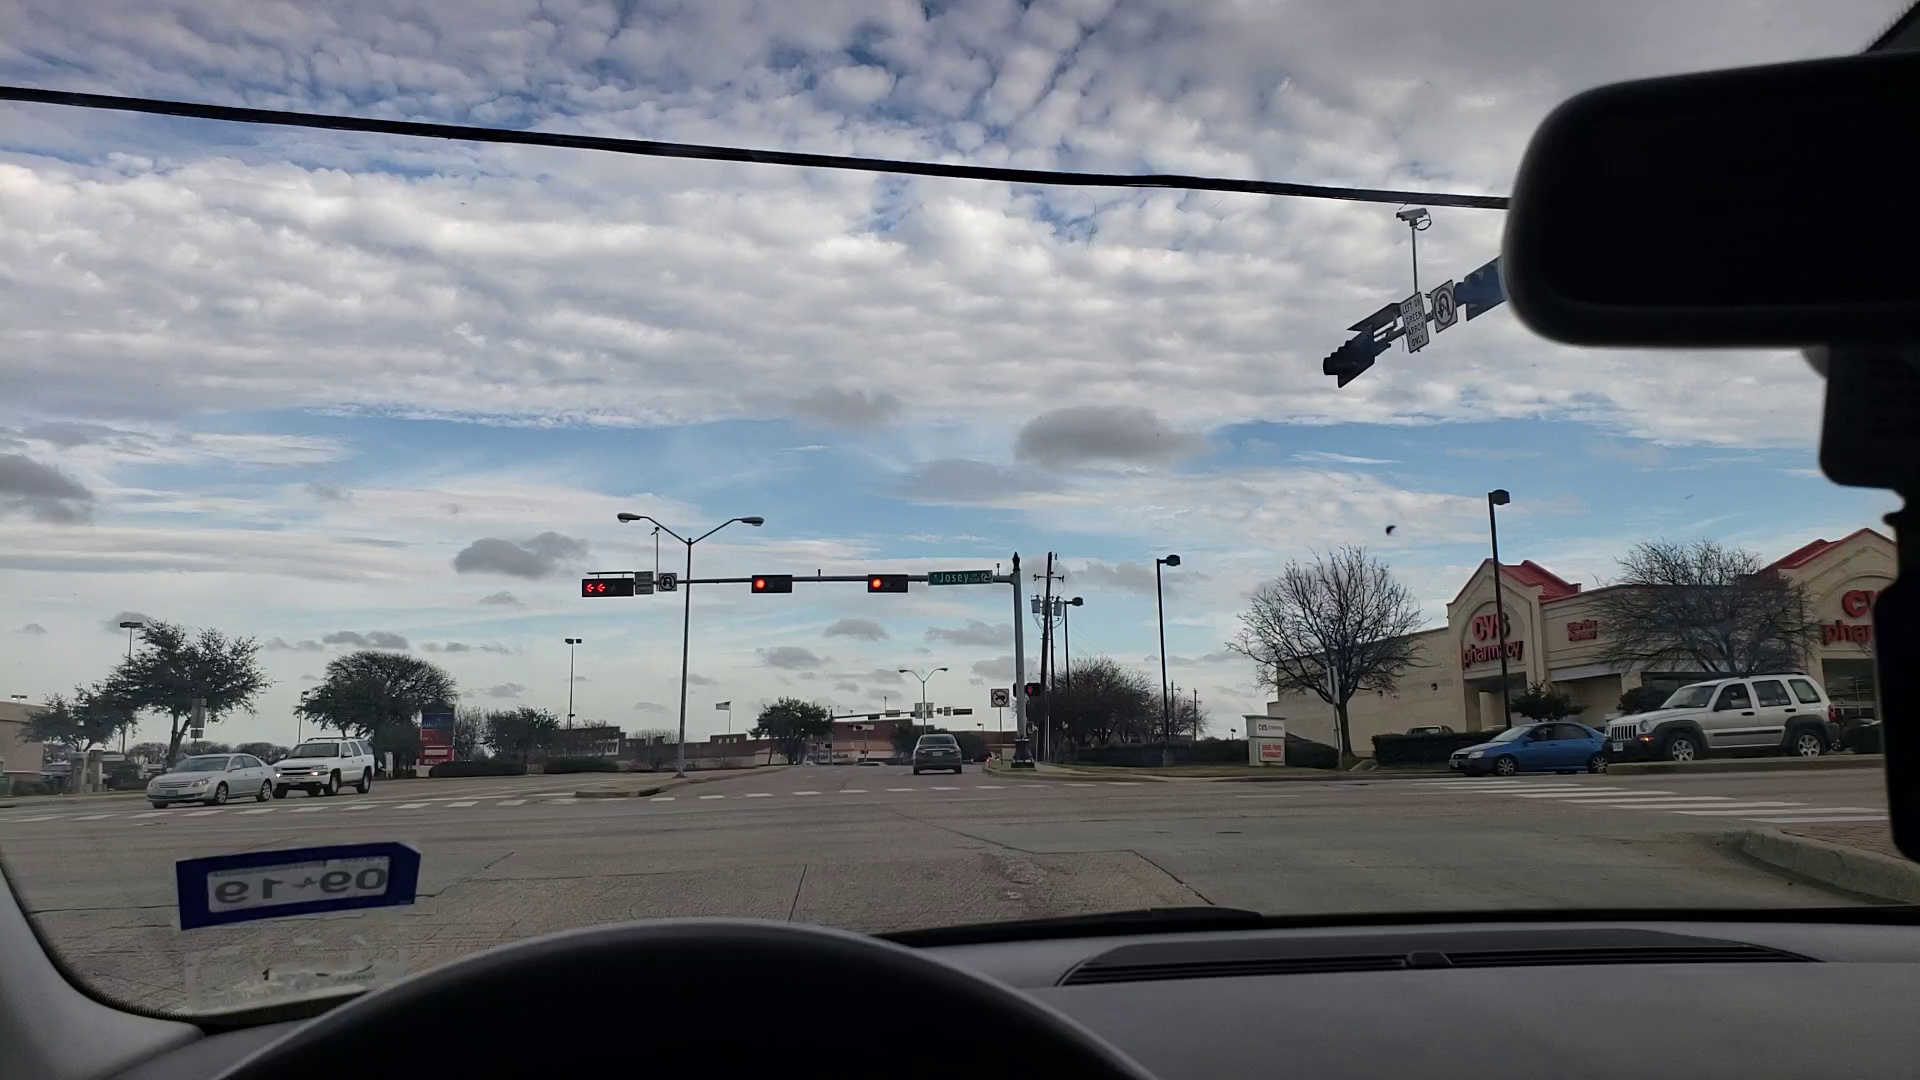car: (1596, 661, 1855, 765), (1443, 711, 1621, 778), (142, 748, 280, 811), (269, 731, 378, 798), (909, 728, 969, 781)
traffic light: (582, 574, 636, 597), (748, 574, 796, 593), (866, 575, 909, 593)
